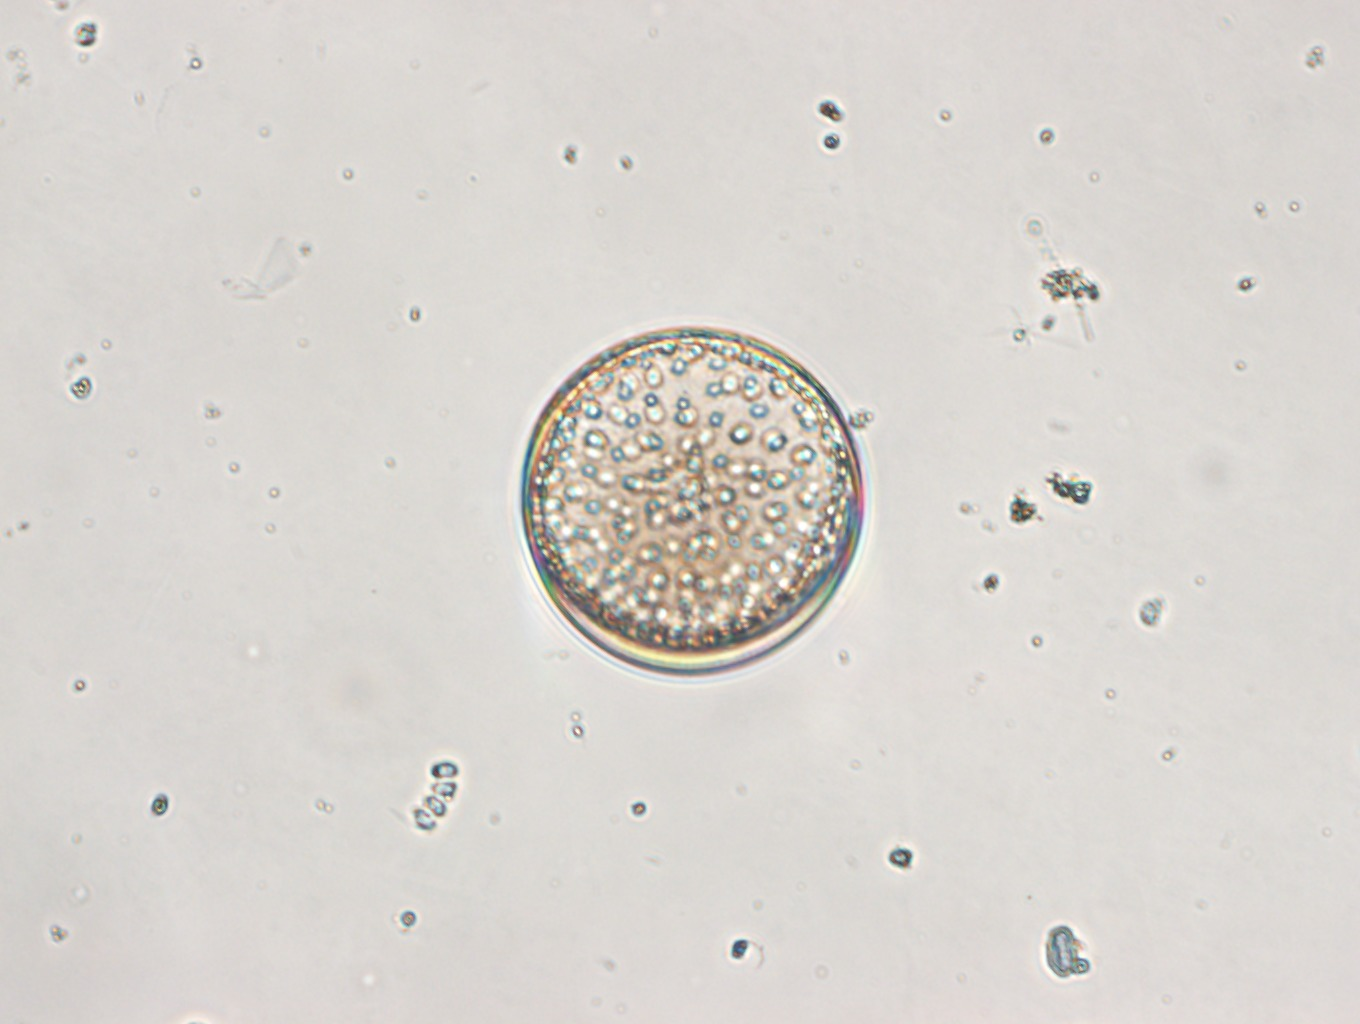coscinodiscus: (519, 325, 867, 675)
skeletonema: (412, 759, 458, 833)
